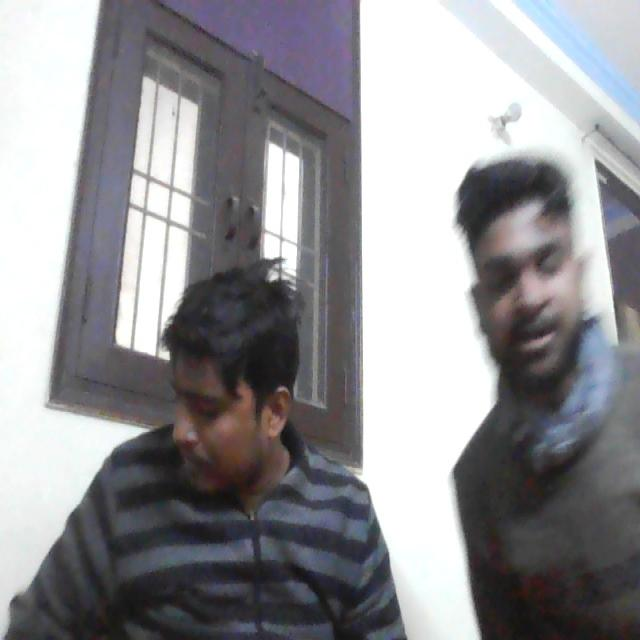real: (472, 144, 601, 388)
